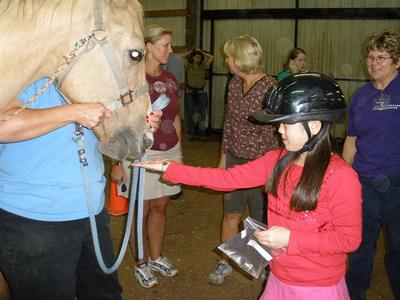person: (132, 74, 363, 299)
